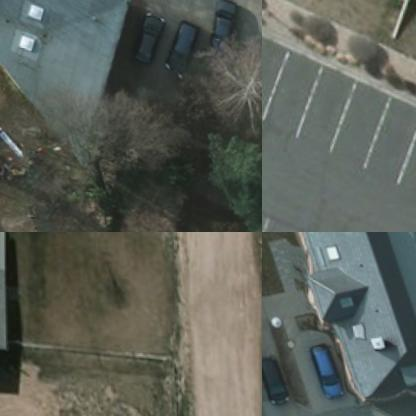car: (154, 20, 192, 78), (198, 0, 237, 55), (124, 14, 162, 68), (302, 347, 336, 396), (262, 355, 279, 407), (256, 12, 261, 63)
